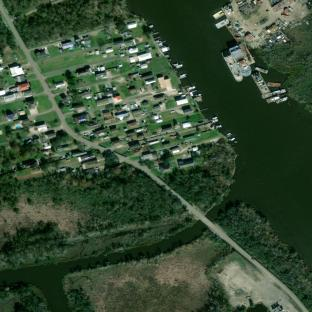Floresta: (20, 165, 185, 232), (218, 203, 312, 312), (15, 0, 129, 46), (164, 143, 236, 213), (0, 221, 64, 267), (196, 279, 268, 312), (0, 286, 50, 312), (0, 174, 20, 208), (67, 288, 95, 312), (0, 17, 16, 54), (3, 0, 42, 15)
